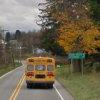Bus: (19, 53, 59, 87)
